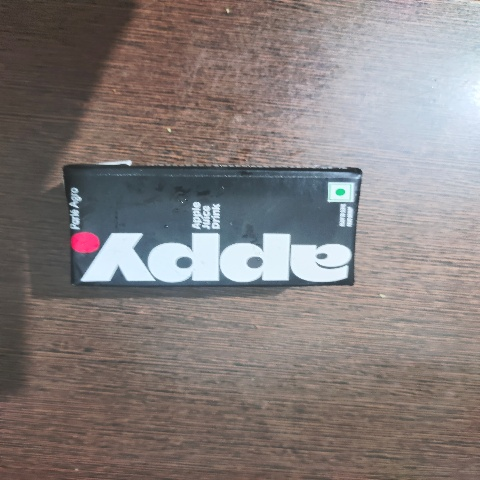appy: (47, 148, 378, 334)
